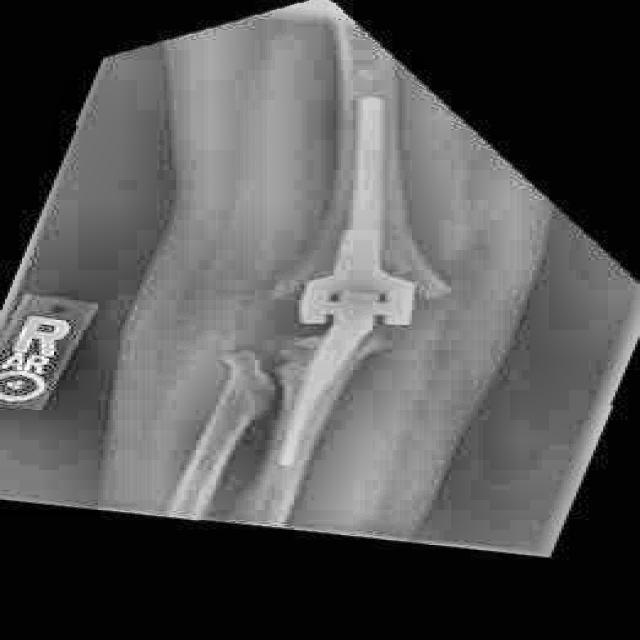elbow positive: (179, 330, 316, 409)
